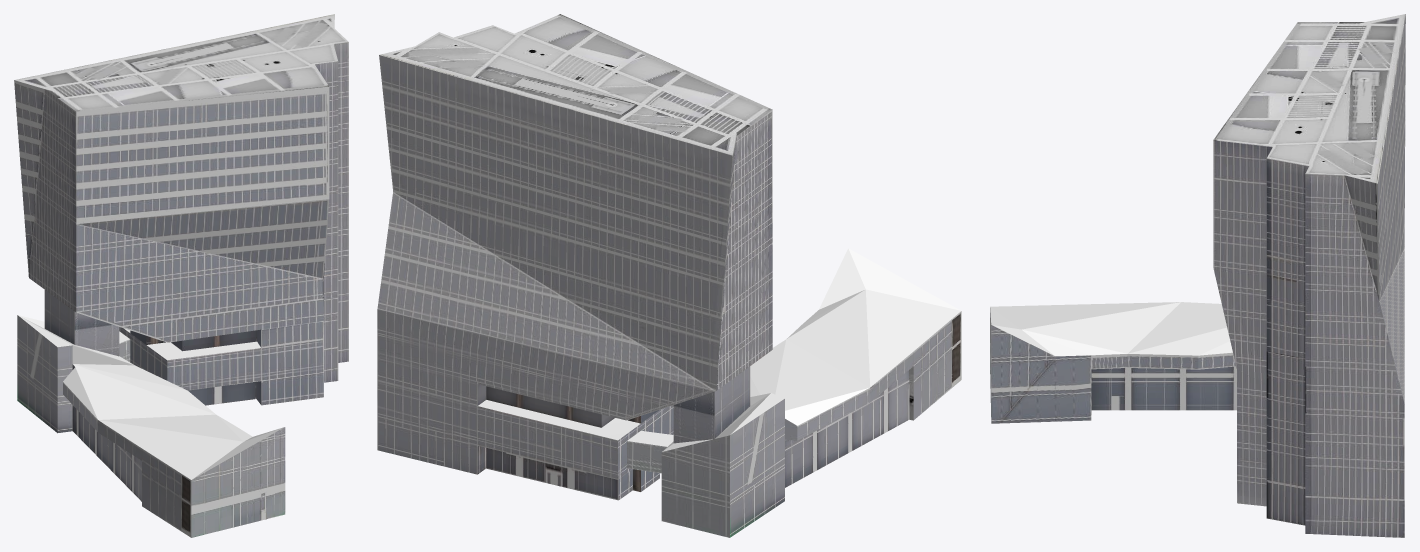
The picture shows the model from 3 angles, left to right: view 1: azimuth 30°, elevation 25°; view 2: azimuth 150°, elevation 25°; view 3: azimuth 270°, elevation 25°; orthographic projection. The views are drawn at different scales.
Parts seen in each view (by area): view 1: 401; view 2: 401; view 3: 401.
Part boxes in pixels (x1=…): 401: x1=14, y1=14, x2=348, y2=537; 401: x1=377, y1=14, x2=961, y2=537; 401: x1=990, y1=14, x2=1405, y2=537.
Size of the model in its own units: 70.29 by 66.55 by 69.31.
Materials: 1 (1 with a texture image).
